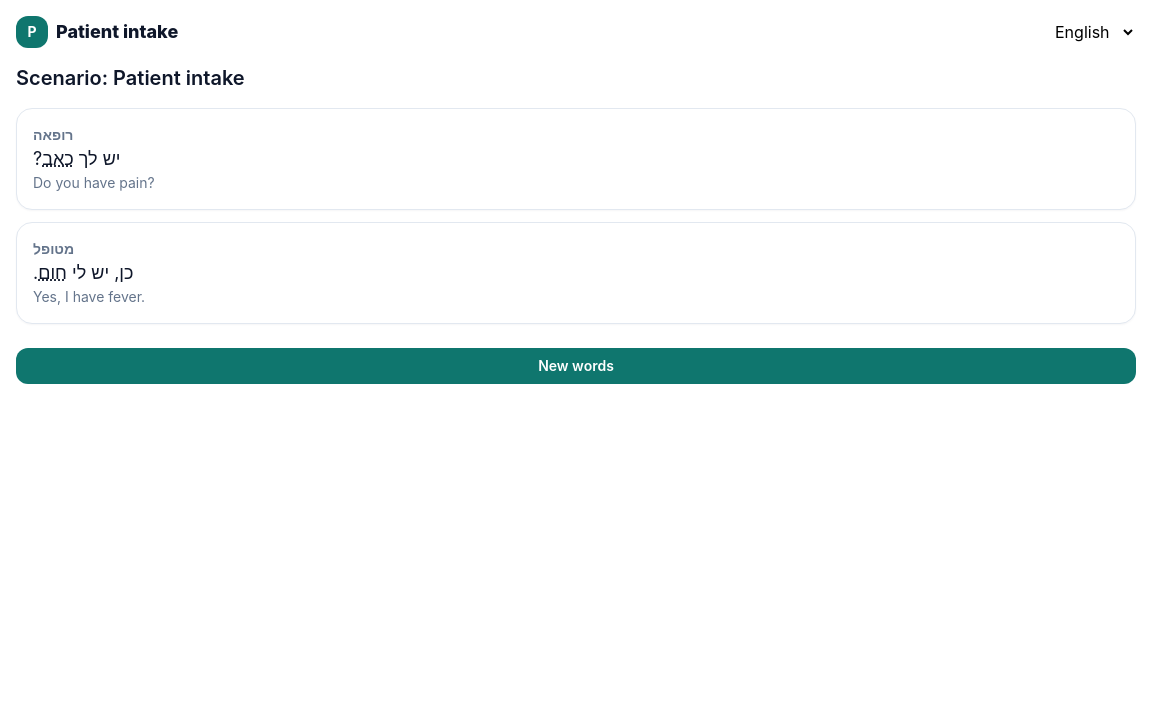
Test: UnitPage › opens a gloss when tapping a unit word in the dialogue
The image size is (1152, 720).
Expected: the text "Do you have pain?" is shown, left=33, top=174, right=155, bottom=191
Click the button with test id "unit-gloss" showing "כאב".
click(58, 159)  # box left=42, top=145, right=74, bottom=173
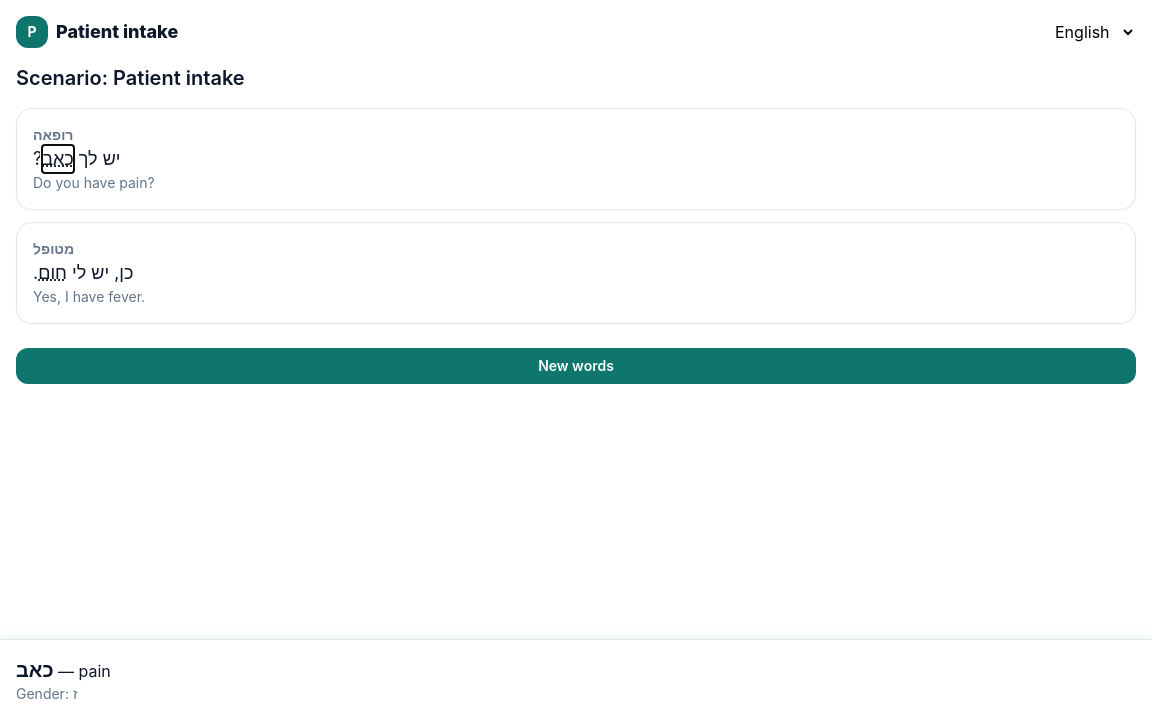
Now the element with test id "unit-gloss-panel" shows "pain", box left=78, top=661, right=111, bottom=681
